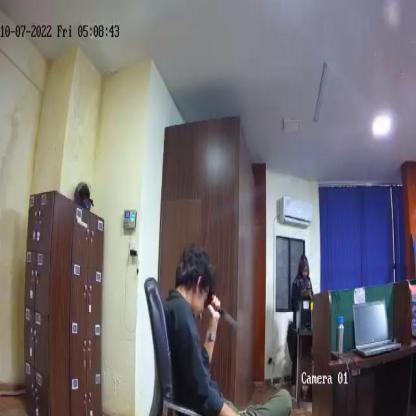Knife: (211, 298, 241, 333)
